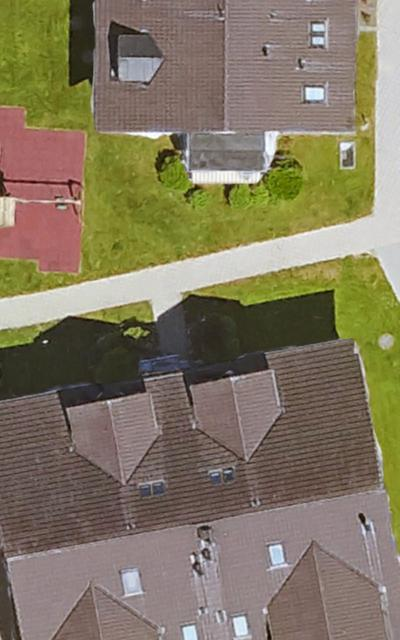tree: (195, 317, 242, 360), (96, 349, 142, 385), (262, 162, 304, 200), (157, 154, 189, 193), (186, 189, 207, 210)
